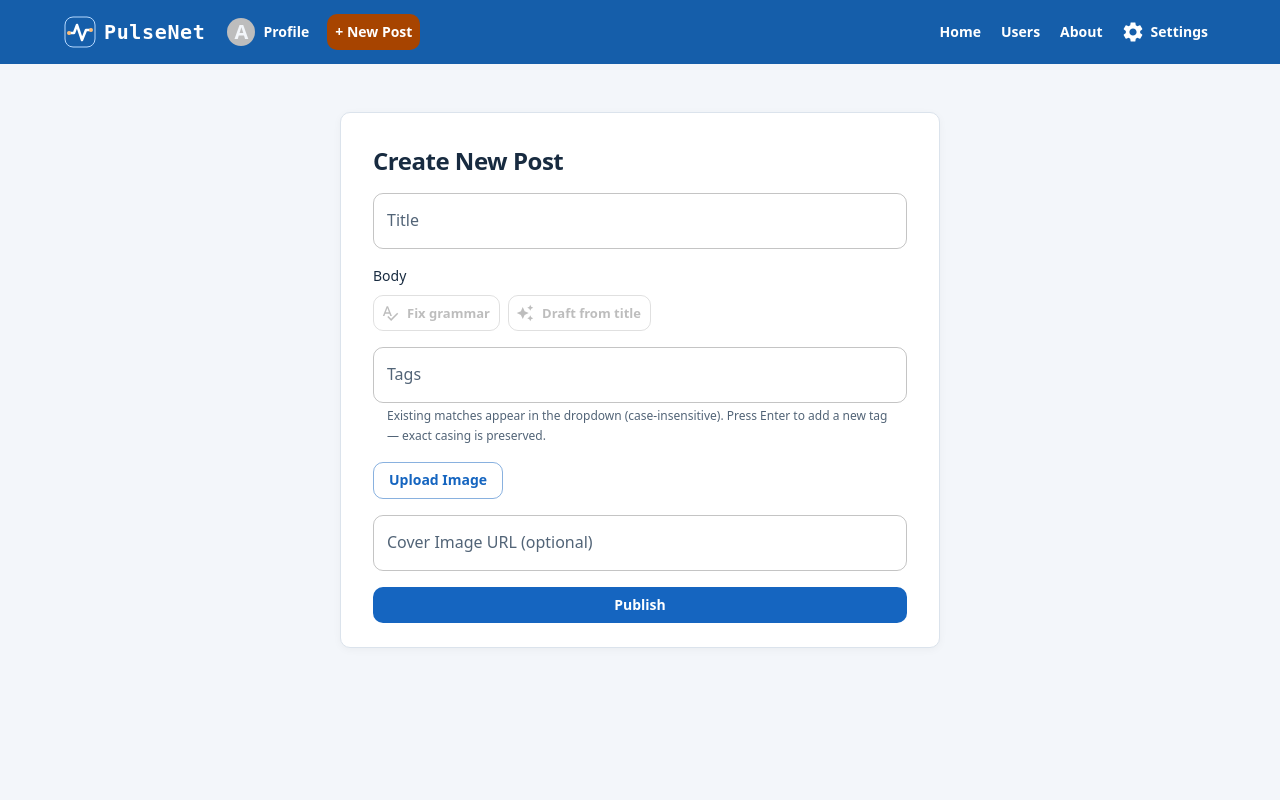
frontend request recovery › keeps current tag suggestions when an older query finishes later
Step 1. Type "rea" into the dropdown labelled "Tags" → (640, 375), box [382, 356, 898, 394]
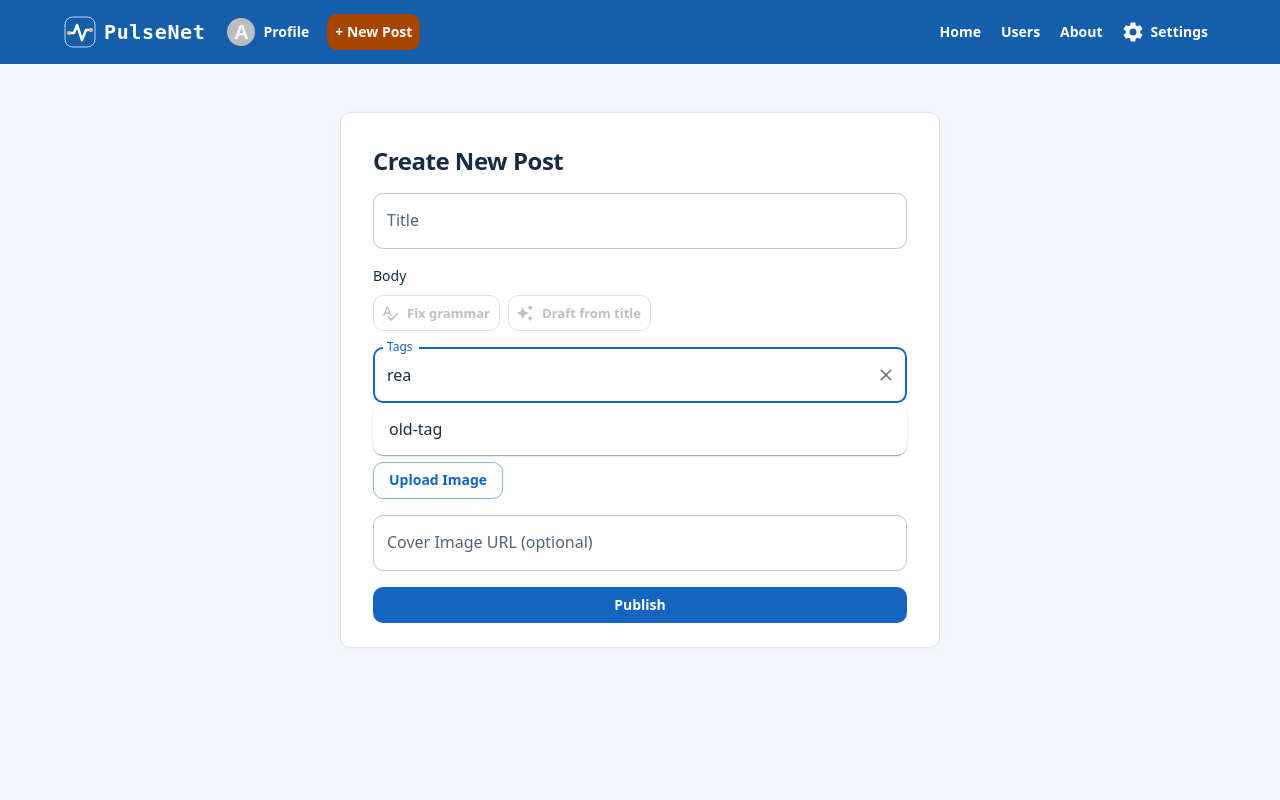
Step 2. Type "ct" into the dropdown labelled "Tags" → (625, 375), box [382, 356, 868, 394]
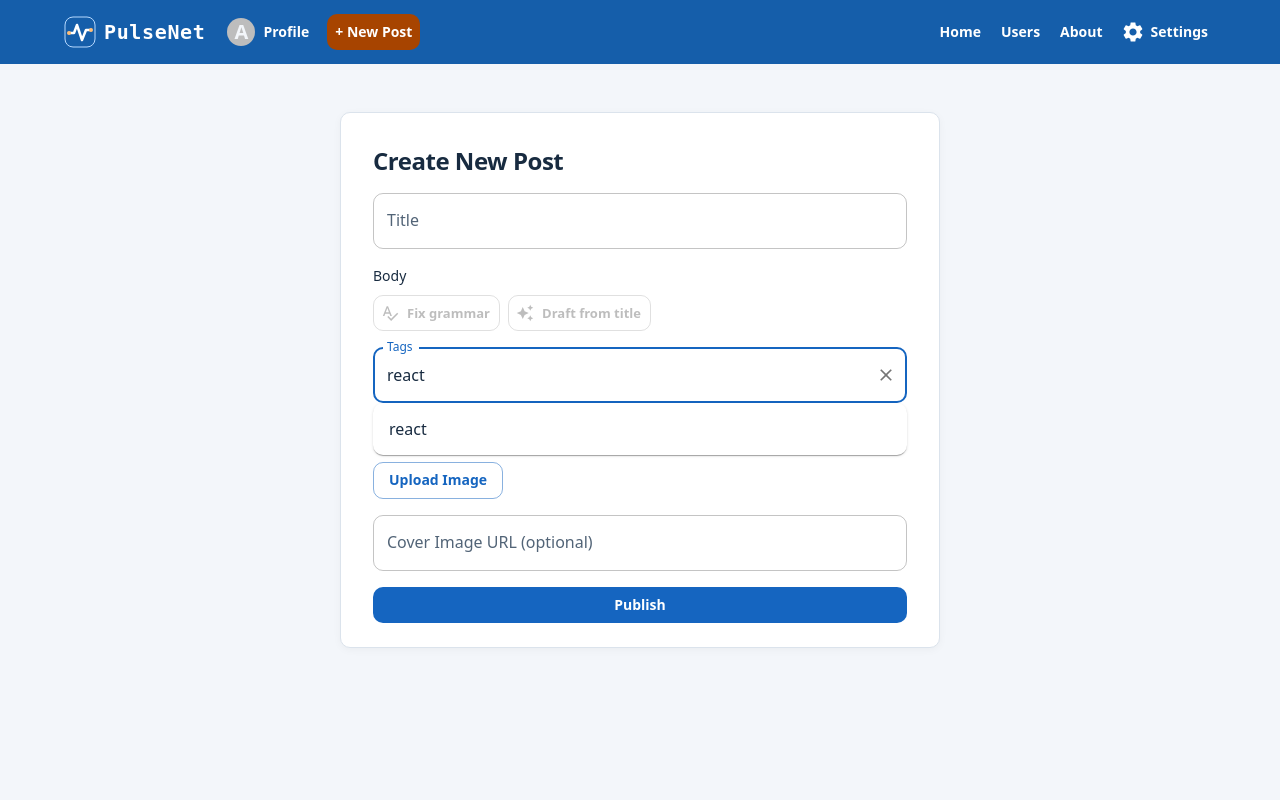
Result: the option "react" is shown at [389, 418, 427, 440]
Result: the option no longer shows "old-tag"
